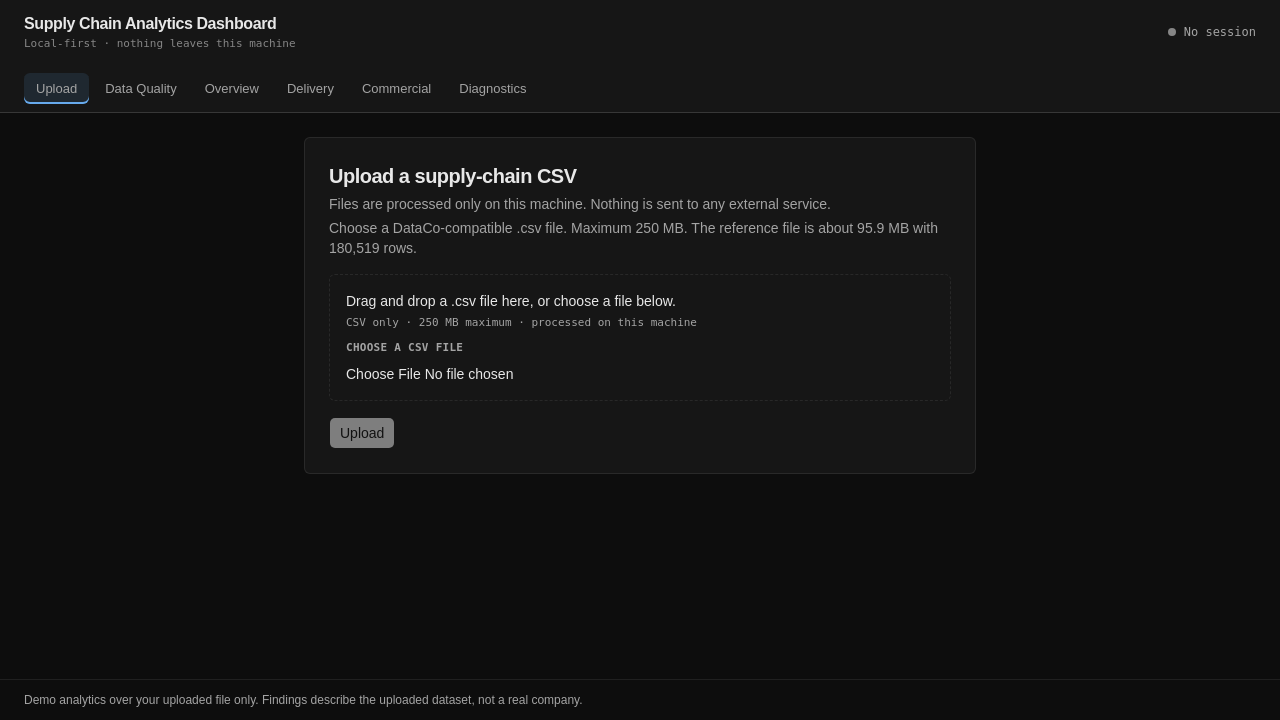
Phase-12 Executive Overview › renders the governed empty state without requesting KPIs
Step 1. Click the button "Overview" → (232, 88), box [193,72,271,104]
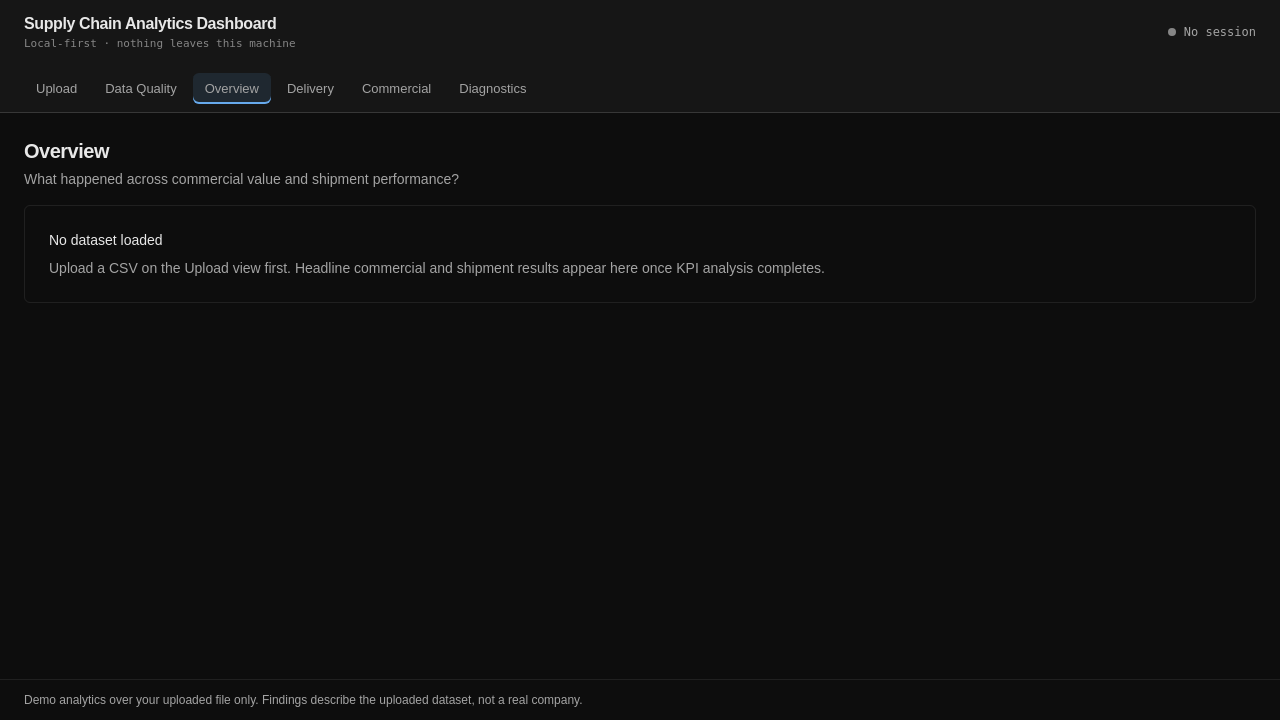
Now the heading "Overview" is shown, box [24,140,109,162]
Now the text "No dataset loaded" is shown, box [49,230,163,250]
